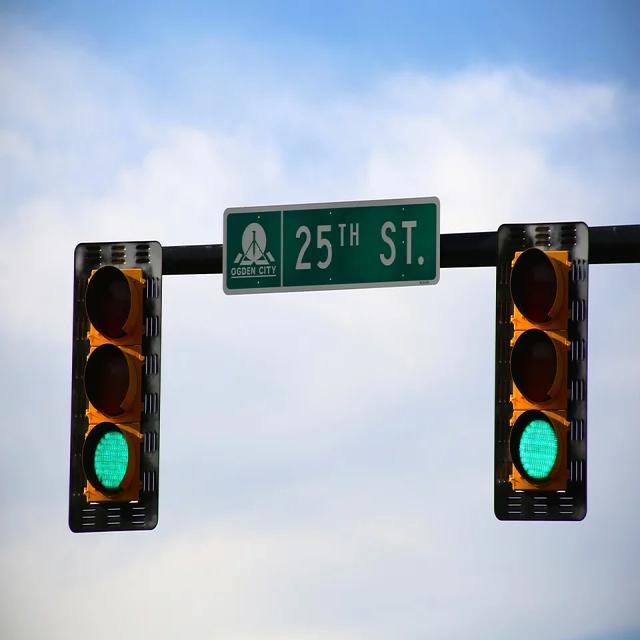green: (514, 409, 565, 479), (86, 425, 138, 493)
